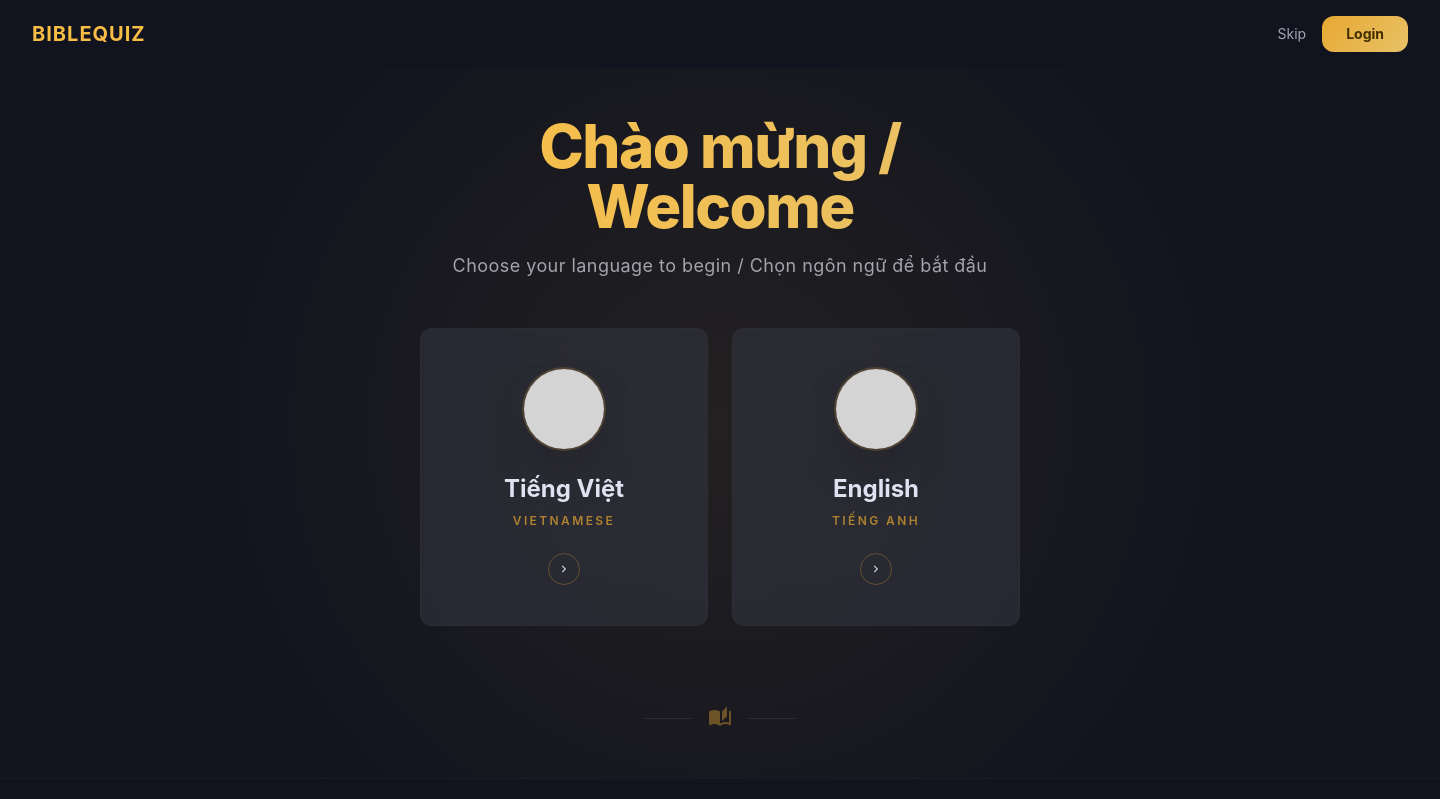
Test: Onboarding › Language Selection (step 0) › clicking English advances to slide 1
The image size is (1440, 799).
Click the text "English" at (876, 489), box [832, 473, 920, 505]
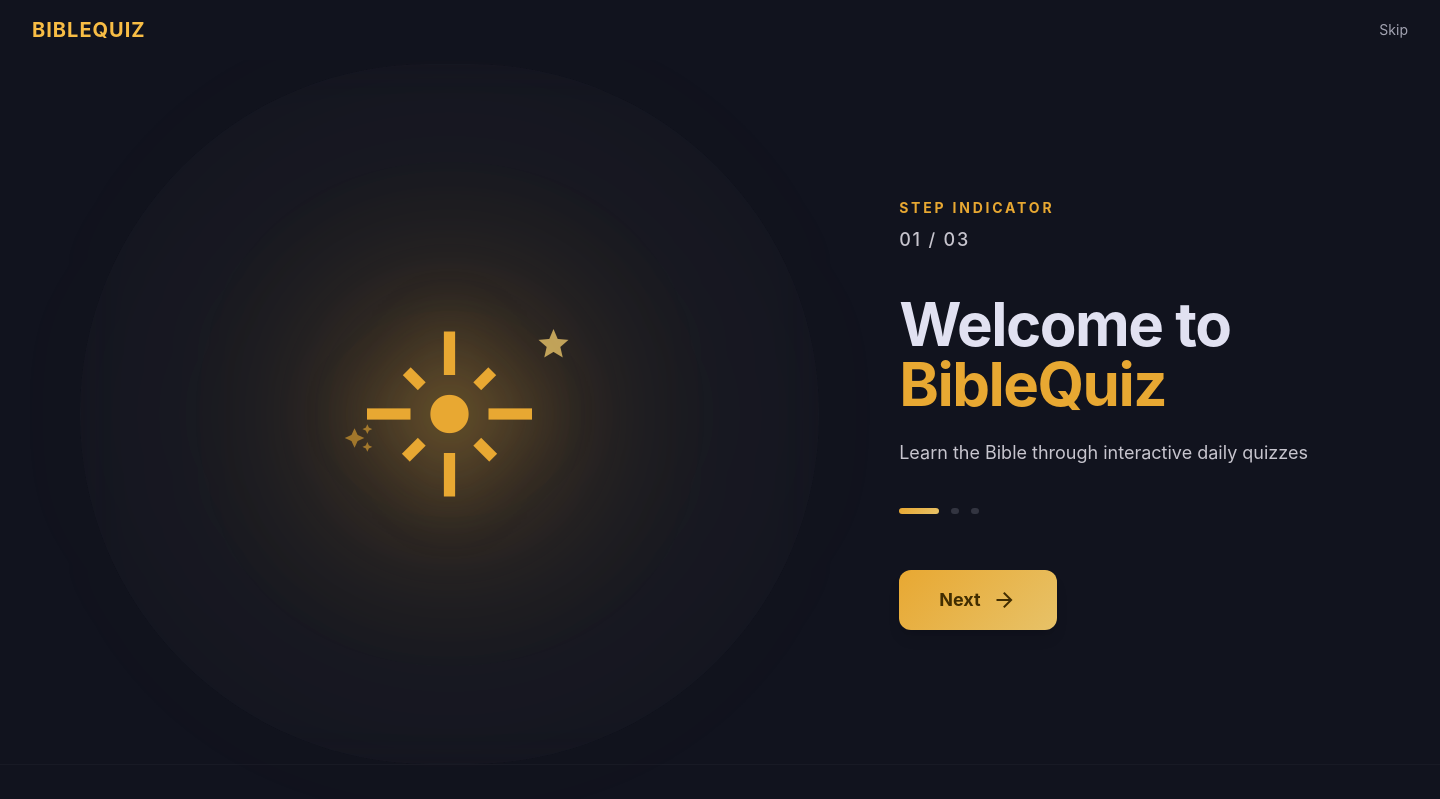
Result: the text "01 / 03" is shown at [899, 229, 970, 250]
